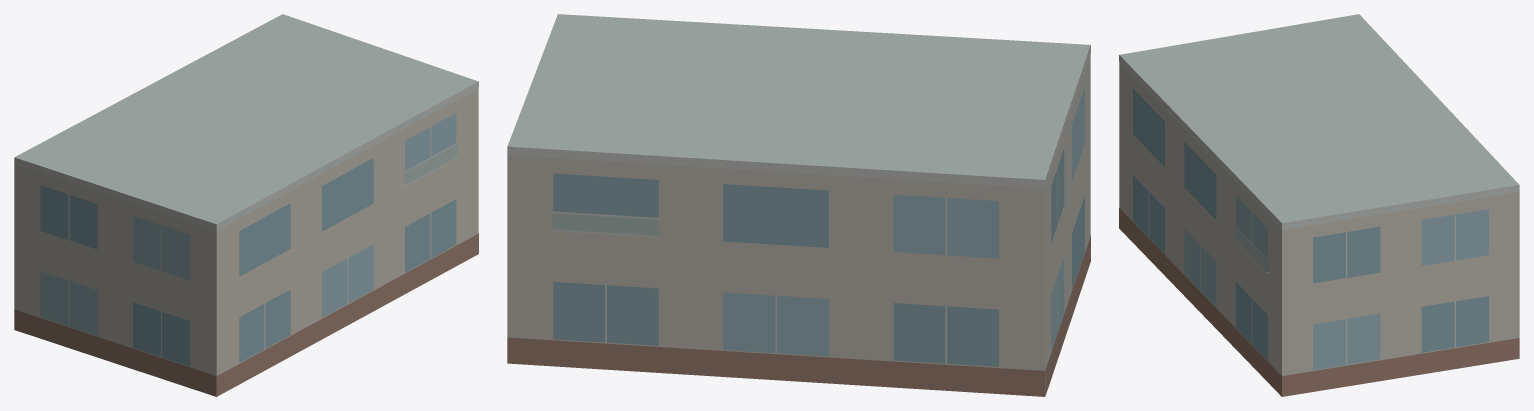
The model's file is survey-upis-32931030.glb.
3 renders of one model, left to right at view 1: azimuth 30°, elevation 25°; view 2: azimuth 150°, elevation 25°; view 3: azimuth 270°, elevation 25°, orthographic. The views are drawn at different scales.
Parts seen in each view (by area): view 1: survey-upis-32931030.tmp; view 2: survey-upis-32931030.tmp; view 3: survey-upis-32931030.tmp.
Boxes of the visible parts, x1,y1,x2,y2 form: survey-upis-32931030.tmp: [14, 14, 478, 396]; survey-upis-32931030.tmp: [507, 14, 1090, 396]; survey-upis-32931030.tmp: [1119, 14, 1519, 396].
Bounding box in the file's own units: 15.77 × 6.1 × 12.76.
